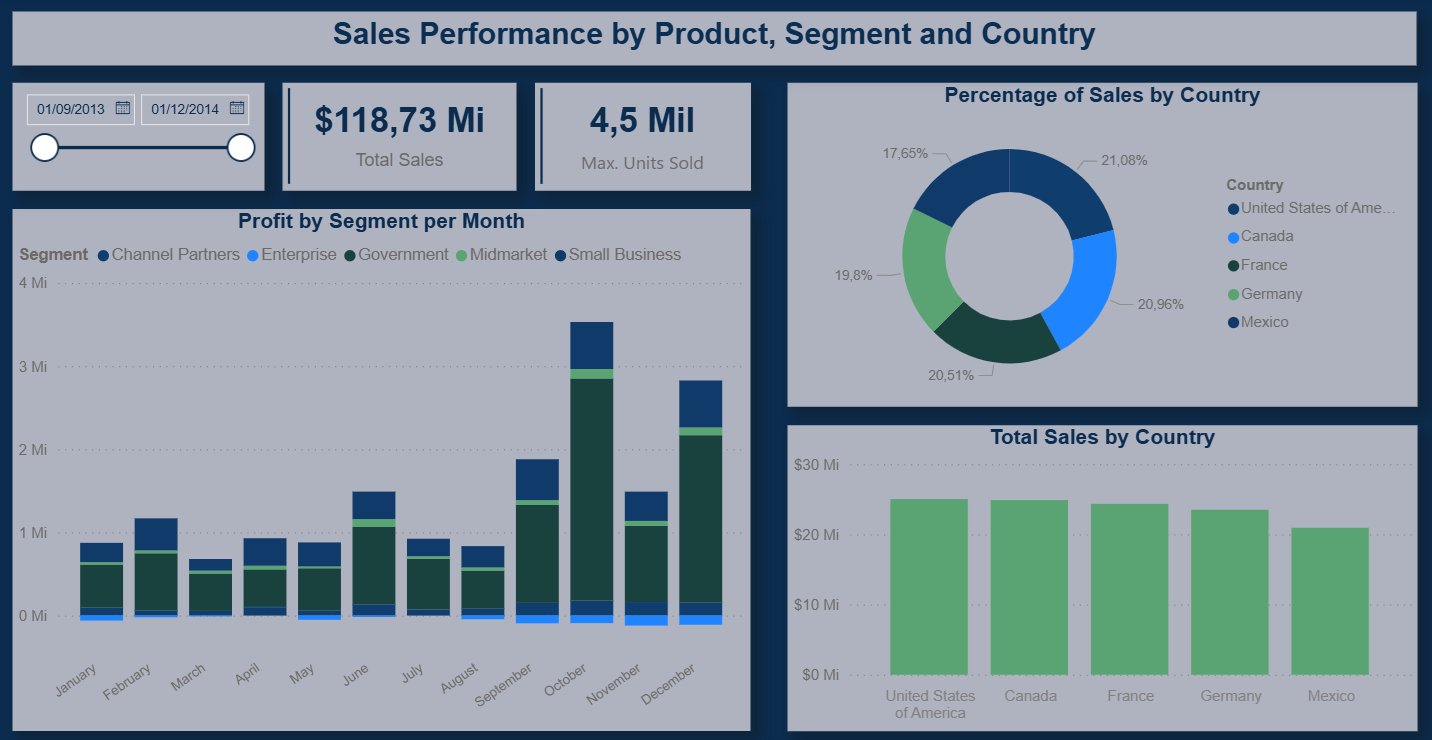

The dashboard page shown, as its layout file describes it:
{"tool":"powerbi","page":{"name":"Sales & Profit Analysis","canvas":[1280,720],"ordinal":1},"visuals":[{"type":"donutChart","title":"Percentage of Sales by Country","fields":{"Y":["Sum(financials. Sales)"],"Category":["financials.Country"]},"box":[688,80,576,304],"z":0},{"type":"textbox","box":[16,16,1248,48],"z":1000},{"type":"cardVisual","title":"Sum Sales","fields":{"Data":["Sum(financials. Sales)"]},"box":[256,80,208,96],"z":2000},{"type":"cardVisual","title":"Sum Sales","fields":{"Data":["Max(financials.Units Sold)"]},"box":[480,80,192,96],"z":3000},{"type":"columnChart","title":"Profit by Segment per Month","fields":{"Y":["Sum(financials.Profit)"],"Series":["financials.Segment"],"Category":["financials.Month Name"]},"box":[16,192,656,512],"z":4000},{"type":"clusteredColumnChart","title":"Total Sales by Country","fields":{"Y":["Sum(financials. Sales)"],"Category":["financials.Country"]},"box":[688,400,576,304],"z":5000},{"type":"slicer","fields":{"Values":["financials.Date"]},"box":[16,80,224,96],"z":6000}]}

Visuals, with their boxes on the page's 1280x720 design canvas (x1, y1, x2, y2). These are canvas units, not pixel positions in the 1432x740 screenshot, which may show the page scaled, cropped or inside an application window:
"Percentage of Sales by Country" donutChart: BBox(688, 80, 1264, 384)
textbox: BBox(16, 16, 1264, 64)
"Sum Sales" cardVisual: BBox(256, 80, 464, 176)
"Sum Sales" cardVisual: BBox(480, 80, 672, 176)
"Profit by Segment per Month" columnChart: BBox(16, 192, 672, 704)
"Total Sales by Country" clusteredColumnChart: BBox(688, 400, 1264, 704)
slicer - financials.Date: BBox(16, 80, 240, 176)
